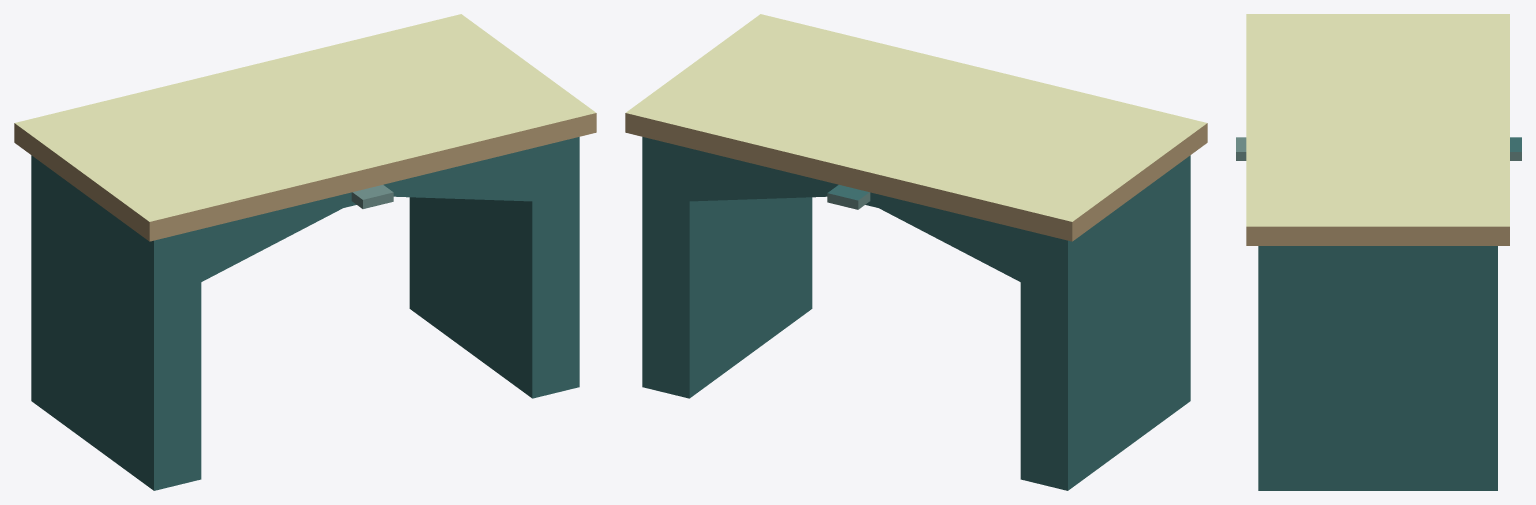
The model's file is ModuloTunel.fbx.
3 views of the same model, side by side, from view 1: azimuth 30°, elevation 25°; view 2: azimuth 150°, elevation 25°; view 3: azimuth 270°, elevation 25° (orthographic). The views are drawn at different scales.
Parts seen in each view (by area): view 1: Cube.217; view 2: Cube.217; view 3: Cube.217.
Part boxes in pixels (left/top/right/bottom): Cube.217: left=14, top=14, right=596, bottom=490; Cube.217: left=625, top=14, right=1207, bottom=490; Cube.217: left=1236, top=14, right=1521, bottom=490.
Bounding box in the file's own units: 420 × 248 × 238.
